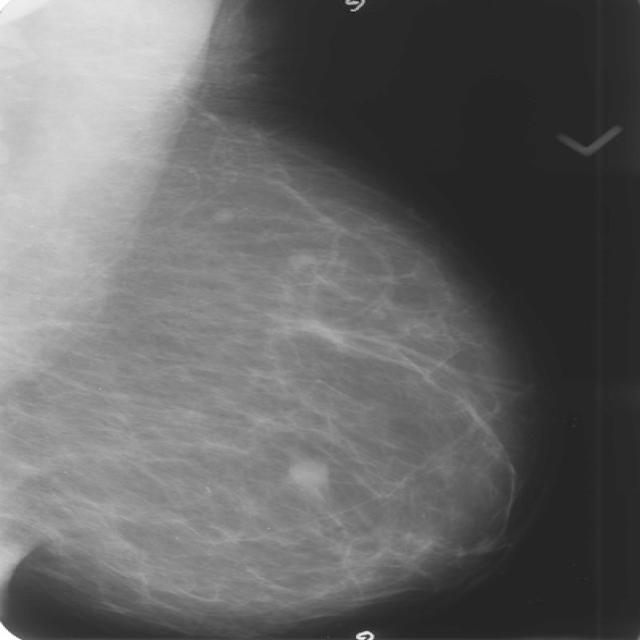tumour: (286, 457, 326, 494)
